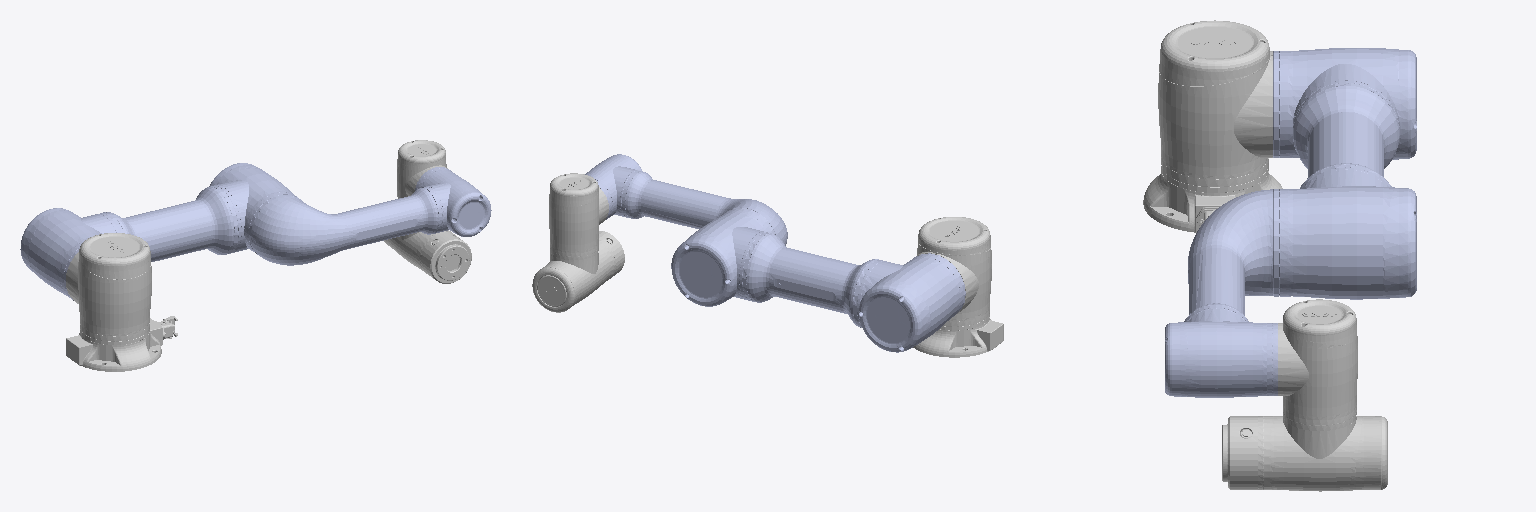
The robot description file, URDF, robot "zu7":
<?xml version="1.0" encoding="utf-8"?>
<!-- This URDF was automatically created by SolidWorks to URDF Exporter! Originally created by [author] ([email redacted]) 
     Commit Version: 1.5.1-0-g916b5db  Build Version: 1.5.7152.31018
     For more information, please see http://wiki.ros.org/sw_urdf_exporter -->
<robot
  name="zu7">
  <link
    name="Link_00">
    <inertial>
      <origin
        xyz="0.0028167 -0.00019453 0.019544"
        rpy="0 0 0" />
      <mass
        value="0.52664" />
      <inertia
        ixx="0.0006297"
        ixy="-2.4148E-08"
        ixz="3.2361E-06"
        iyy="0.00086881"
        iyz="2.45E-07"
        izz="0.001363" />
    </inertial>
    <visual>
      <origin
        xyz="0 0 0"
        rpy="0 0 0" />
      <geometry>
        <mesh
          filename="package://jaka_description/meshes/zu7/Link_00.STL" />
      </geometry>
      <material
        name="">
        <color
          rgba="0.84706 0.84706 0.84706 1" />
      </material>
    </visual>
    <collision>
      <origin
        xyz="0 0 0"
        rpy="0 0 0" />
      <geometry>
        <mesh
          filename="package://jaka_description/meshes/zu7/Link_00.STL" />
      </geometry>
    </collision>
  </link>
  <link
    name="Link_01">
    <inertial>
      <origin
        xyz="-2.5186E-07 0.0033226 -0.001509"
        rpy="0 0 0" />
      <mass
        value="15.135" />
      <inertia
        ixx="0.044302"
        ixy="1.5349E-07"
        ixz="-6.1966E-07"
        iyy="0.043091"
        iyz="1.4326E-05"
        izz="0.030523" />
    </inertial>
    <visual>
      <origin
        xyz="0 0 0"
        rpy="0 0 0" />
      <geometry>
        <mesh
          filename="package://jaka_description/meshes/zu7/Link_01.STL" />
      </geometry>
      <material
        name="">
        <color
          rgba="0.84706 0.84706 0.84706 1" />
      </material>
    </visual>
    <collision>
      <origin
        xyz="0 0 0"
        rpy="0 0 0" />
      <geometry>
        <mesh
          filename="package://jaka_description/meshes/zu7/Link_01.STL" />
      </geometry>
    </collision>
  </link>
  <joint
    name="joint_1"
    type="revolute">
    <origin
      xyz="0 -0.00022535 0.12015"
      rpy="0 0 0" />
    <parent
      link="Link_00" />
    <child
      link="Link_01" />
    <axis
      xyz="0 0 1" />
    <limit effort="28.0" lower="-6.28" upper="6.28" velocity="3.2"/>
  </joint>
  <link
    name="Link_02">
    <inertial>
      <origin
        xyz="0.18 -3.4142E-07 -0.14305"
        rpy="0 0 0" />
      <mass
        value="5.4602" />
      <inertia
        ixx="0.012904"
        ixy="-1.7678E-07"
        ixz="1.1617E-07"
        iyy="0.14158"
        iyz="1.5067E-08"
        izz="0.13809" />
    </inertial>
    <visual>
      <origin
        xyz="0 0 0"
        rpy="0 0 0" />
      <geometry>
        <mesh
          filename="package://jaka_description/meshes/zu7/Link_02.STL" />
      </geometry>
      <material
        name="">
        <color
          rgba="0.79216 0.81961 0.93333 1" />
      </material>
    </visual>
    <collision>
      <origin
        xyz="0 0 0"
        rpy="0 0 0" />
      <geometry>
        <mesh
          filename="package://jaka_description/meshes/zu7/Link_02.STL" />
      </geometry>
    </collision>
  </link>
  <joint
    name="joint_2"
    type="revolute">
    <origin
      xyz="0 0 0"
      rpy="1.5708 0 0" />
    <parent
      link="Link_01" />
    <child
      link="Link_02" />
    <axis
      xyz="0 0 1" />
	<limit effort="28.0" lower="-1.484" upper="4.63" velocity="3.2"/>
  </joint>
  <link
    name="Link_03">
    <inertial>
      <origin
        xyz="0.15497 4.9469E-07 -0.012633"
        rpy="0 0 0" />
      <mass
        value="2.1076" />
      <inertia
        ixx="0.0026332"
        ixy="-1.1342E-07"
        ixz="-0.0015213"
        iyy="0.013431"
        iyz="-5.4228E-09"
        izz="0.012808" />
    </inertial>
    <visual>
      <origin
        xyz="0 0 0"
        rpy="0 0 0" />
      <geometry>
        <mesh
          filename="package://jaka_description/meshes/zu7/Link_03.STL" />
      </geometry>
      <material
        name="">
        <color
          rgba="0.79216 0.81961 0.93333 1" />
      </material>
    </visual>
    <collision>
      <origin
        xyz="0 0 0"
        rpy="0 0 0" />
      <geometry>
        <mesh
          filename="package://jaka_description/meshes/zu7/Link_03.STL" />
      </geometry>
    </collision>
  </link>
  <joint
    name="joint_3"
    type="revolute">
    <origin
      xyz="0.36 0 0"
      rpy="0 0 0" />
    <parent
      link="Link_02" />
    <child
      link="Link_03" />
    <axis
      xyz="0 0 1" />
    <limit effort="28.0" lower="-3.05" upper="3.05" velocity="3.2"/>
  </joint>
  <link
    name="Link_04">
    <inertial>
      <origin
        xyz="-1.9782E-06 -0.0058918 0.002676"
        rpy="0 0 0" />
      <mass
        value="5.5436" />
      <inertia
        ixx="0.0070881"
        ixy="1.831E-07"
        ixz="-2.3053E-08"
        iyy="0.0051679"
        iyz="-0.00039809"
        izz="0.0068471" />
    </inertial>
    <visual>
      <origin
        xyz="0 0 0"
        rpy="0 0 0" />
      <geometry>
        <mesh
          filename="package://jaka_description/meshes/zu7/Link_04.STL" />
      </geometry>
      <material
        name="">
        <color
          rgba="0.84706 0.84706 0.84706 1" />
      </material>
    </visual>
    <collision>
      <origin
        xyz="0 0 0"
        rpy="0 0 0" />
      <geometry>
        <mesh
          filename="package://jaka_description/meshes/zu7/Link_04.STL" />
      </geometry>
    </collision>
  </link>
  <joint
    name="joint_4"
    type="revolute">
    <origin
      xyz="0.3035 0 -0.11501"
      rpy="0 0 0" />
    <parent
      link="Link_03" />
    <child
      link="Link_04" />
    <axis
      xyz="0 0 1" />
    <limit effort="28.0" lower="-1.484" upper="4.63" velocity="3.2"/>
  </joint>
  <link
    name="Link_05">
    <inertial>
      <origin
        xyz="-1.9094E-06 -0.0028891 -0.0023424"
        rpy="0 0 0" />
      <mass
        value="6.3339" />
      <inertia
        ixx="0.01292"
        ixy="-1.0866E-07"
        ixz="5.8906E-09"
        iyy="0.0058453"
        iyz="4.296E-05"
        izz="0.012628" />
    </inertial>
    <visual>
      <origin
        xyz="0 0 0"
        rpy="0 0 0" />
      <geometry>
        <mesh
          filename="package://jaka_description/meshes/zu7/Link_05.STL" />
      </geometry>
      <material
        name="">
        <color
          rgba="0.84706 0.84706 0.84706 1" />
      </material>
    </visual>
    <collision>
      <origin
        xyz="0 0 0"
        rpy="0 0 0" />
      <geometry>
        <mesh
          filename="package://jaka_description/meshes/zu7/Link_05.STL" />
      </geometry>
    </collision>
  </link>
  <joint
    name="joint_5"
    type="revolute">
    <origin
      xyz="0 -0.113500000007044 0"
      rpy="1.5707963267949 0 0" />
    <parent
      link="Link_04" />
    <child
      link="Link_05" />
    <axis
      xyz="0 0 1" />
    <limit effort="28.0" lower="-6.28" upper="6.28" velocity="3.2"/>
  </joint>
  <link
    name="Link_06">
    <inertial>
      <origin
        xyz="2.7652E-05 -1.3485E-05 -0.021245"
        rpy="0 0 0" />
      <mass
        value="1.4169" />
      <inertia
        ixx="0.0007137"
        ixy="-6.9116E-07"
        ixz="-6.3673E-07"
        iyy="0.00072363"
        iyz="1.589E-06"
        izz="0.001129" />
    </inertial>
    <visual>
      <origin
        xyz="0 0 0"
        rpy="0 0 0" />
      <geometry>
        <mesh
          filename="package://jaka_description/meshes/zu7/Link_06.STL" />
      </geometry>
      <material
        name="">
        <color
          rgba="0.84706 0.84706 0.84706 1" />
      </material>
    </visual>
    <collision>
      <origin
        xyz="0 0 0"
        rpy="0 0 0" />
      <geometry>
        <mesh
          filename="package://jaka_description/meshes/zu7/Link_06.STL" />
      </geometry>
    </collision>
  </link>
  <joint
    name="joint_6"
    type="revolute">
    <origin
      xyz="0 0.107000000007045 0"
      rpy="-1.5707963267949 0 0" />
    <parent
      link="Link_05" />
    <child
      link="Link_06" />
    <axis
      xyz="0 0 1" />
    <limit effort="28.0" lower="-6.28" upper="6.28" velocity="3.2"/>
  </joint>
</robot>

--- Facts derived from the render (not from the file) ---
3 views of the same robot in one strip: view 1: azimuth 30°, elevation 25°; view 2: azimuth 150°, elevation 25°; view 3: azimuth 270°, elevation 25° (orthographic).
Robot: zu7 — 7 links, 6 joints (6 revolute); root link Link_00; default pose: every joint at zero.
Visible links, largest first — view 1: Link_02, Link_03, Link_01, Link_00, Link_06, Link_04, Link_05; view 2: Link_02, Link_03, Link_01, Link_04, Link_05, Link_00; view 3: Link_02, Link_01, Link_03, Link_04, Link_05, Link_00, Link_06.
Link boxes in pixels (x1=…): Link_02: x1=20, y1=163, x2=297, y2=300; Link_03: x1=251, y1=167, x2=491, y2=265; Link_01: x1=66, y1=233, x2=151, y2=344; Link_00: x1=66, y1=316, x2=177, y2=371; Link_06: x1=421, y1=233, x2=471, y2=283; Link_04: x1=397, y1=140, x2=447, y2=198; Link_05: x1=384, y1=230, x2=454, y2=273; Link_02: x1=671, y1=208, x2=965, y2=352; Link_03: x1=585, y1=154, x2=787, y2=245; Link_01: x1=917, y1=217, x2=991, y2=330; Link_04: x1=549, y1=173, x2=608, y2=259; Link_05: x1=532, y1=240, x2=615, y2=312; Link_00: x1=913, y1=317, x2=1003, y2=357; Link_02: x1=1273, y1=48, x2=1416, y2=299; Link_01: x1=1158, y1=20, x2=1272, y2=192; Link_03: x1=1165, y1=189, x2=1277, y2=397; Link_04: x1=1278, y1=299, x2=1357, y2=430; Link_05: x1=1258, y1=416, x2=1387, y2=491; Link_00: x1=1143, y1=171, x2=1282, y2=232; Link_06: x1=1222, y1=416, x2=1257, y2=489.
Size in the robot's own frame: 0.7877 by 0.3006 by 0.2332 metres.
Meshes: 7 distinct files referenced, 7 mesh visuals loaded (7 binary STL).
